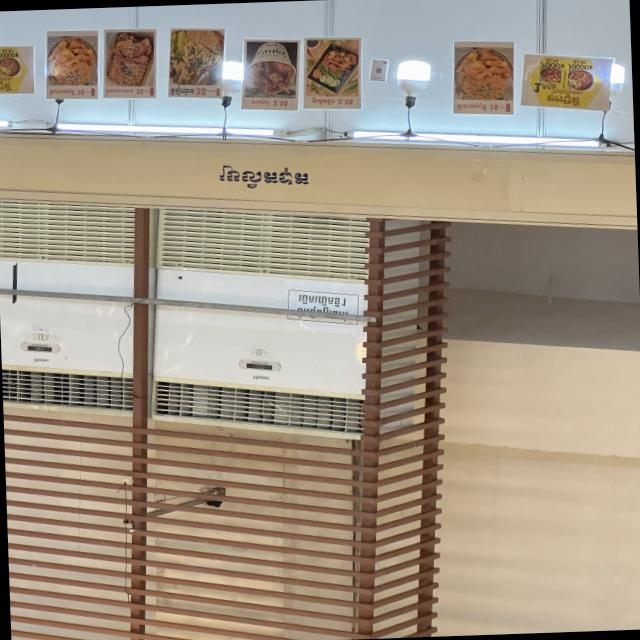Yolov11kh: (211, 164, 314, 192)
